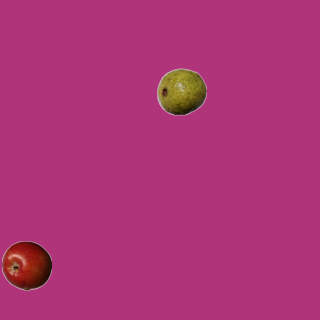Apple Braeburn: (1, 240, 51, 290)
Guava: (156, 66, 206, 116)
